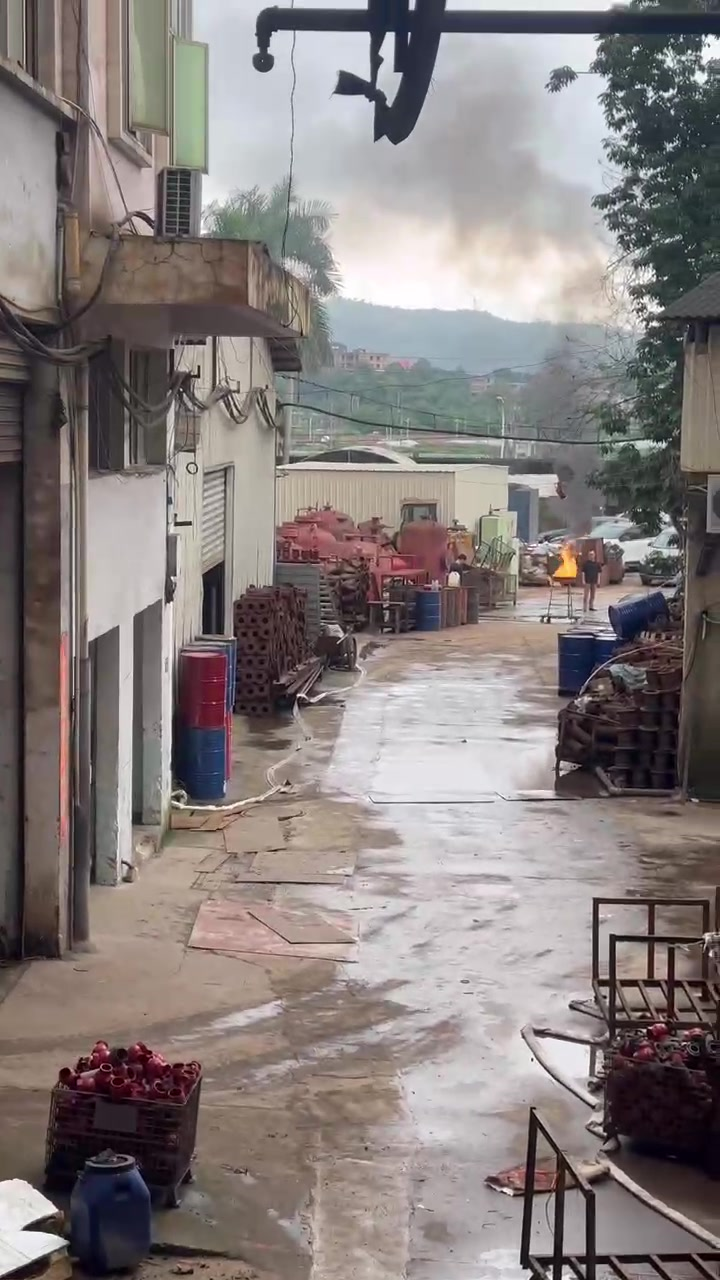fire: (552, 550, 576, 576)
